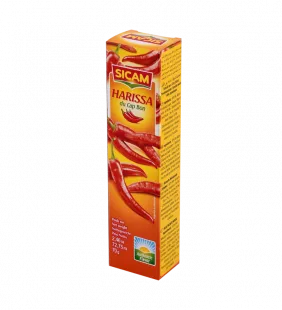Promotion: (100, 20, 189, 290)
